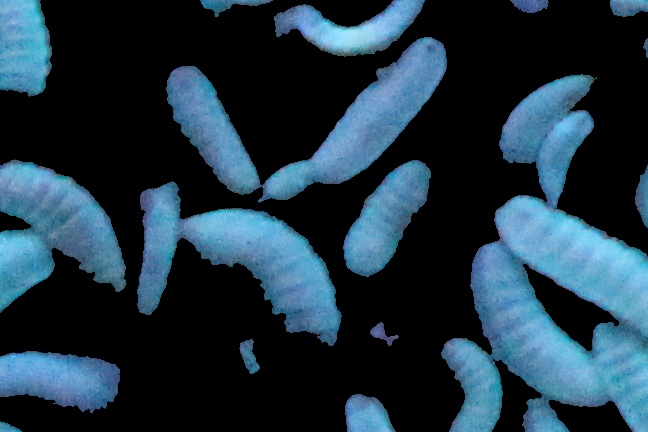larvae: (470, 243, 605, 404), (183, 208, 339, 342), (495, 198, 648, 333), (314, 38, 447, 178), (1, 159, 130, 286), (167, 65, 256, 191), (344, 163, 431, 274), (496, 73, 594, 162), (1, 348, 121, 412), (294, 1, 426, 58), (130, 187, 180, 317), (593, 321, 648, 432), (439, 339, 504, 432), (533, 111, 591, 202), (1, 1, 52, 97), (1, 231, 54, 313), (337, 389, 397, 432)
